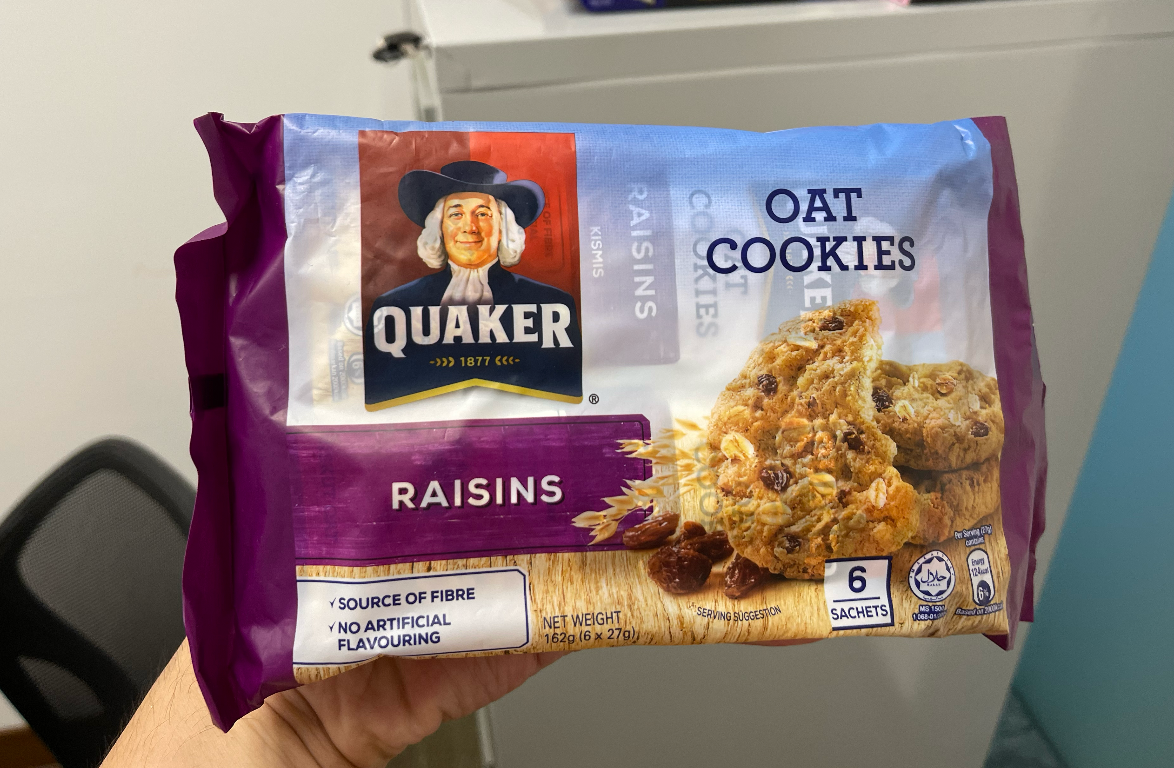cookies_100g-199g: (252, 129, 1033, 636)
